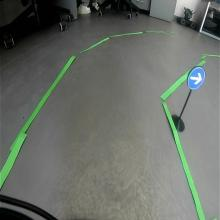right: (187, 67, 206, 89)
